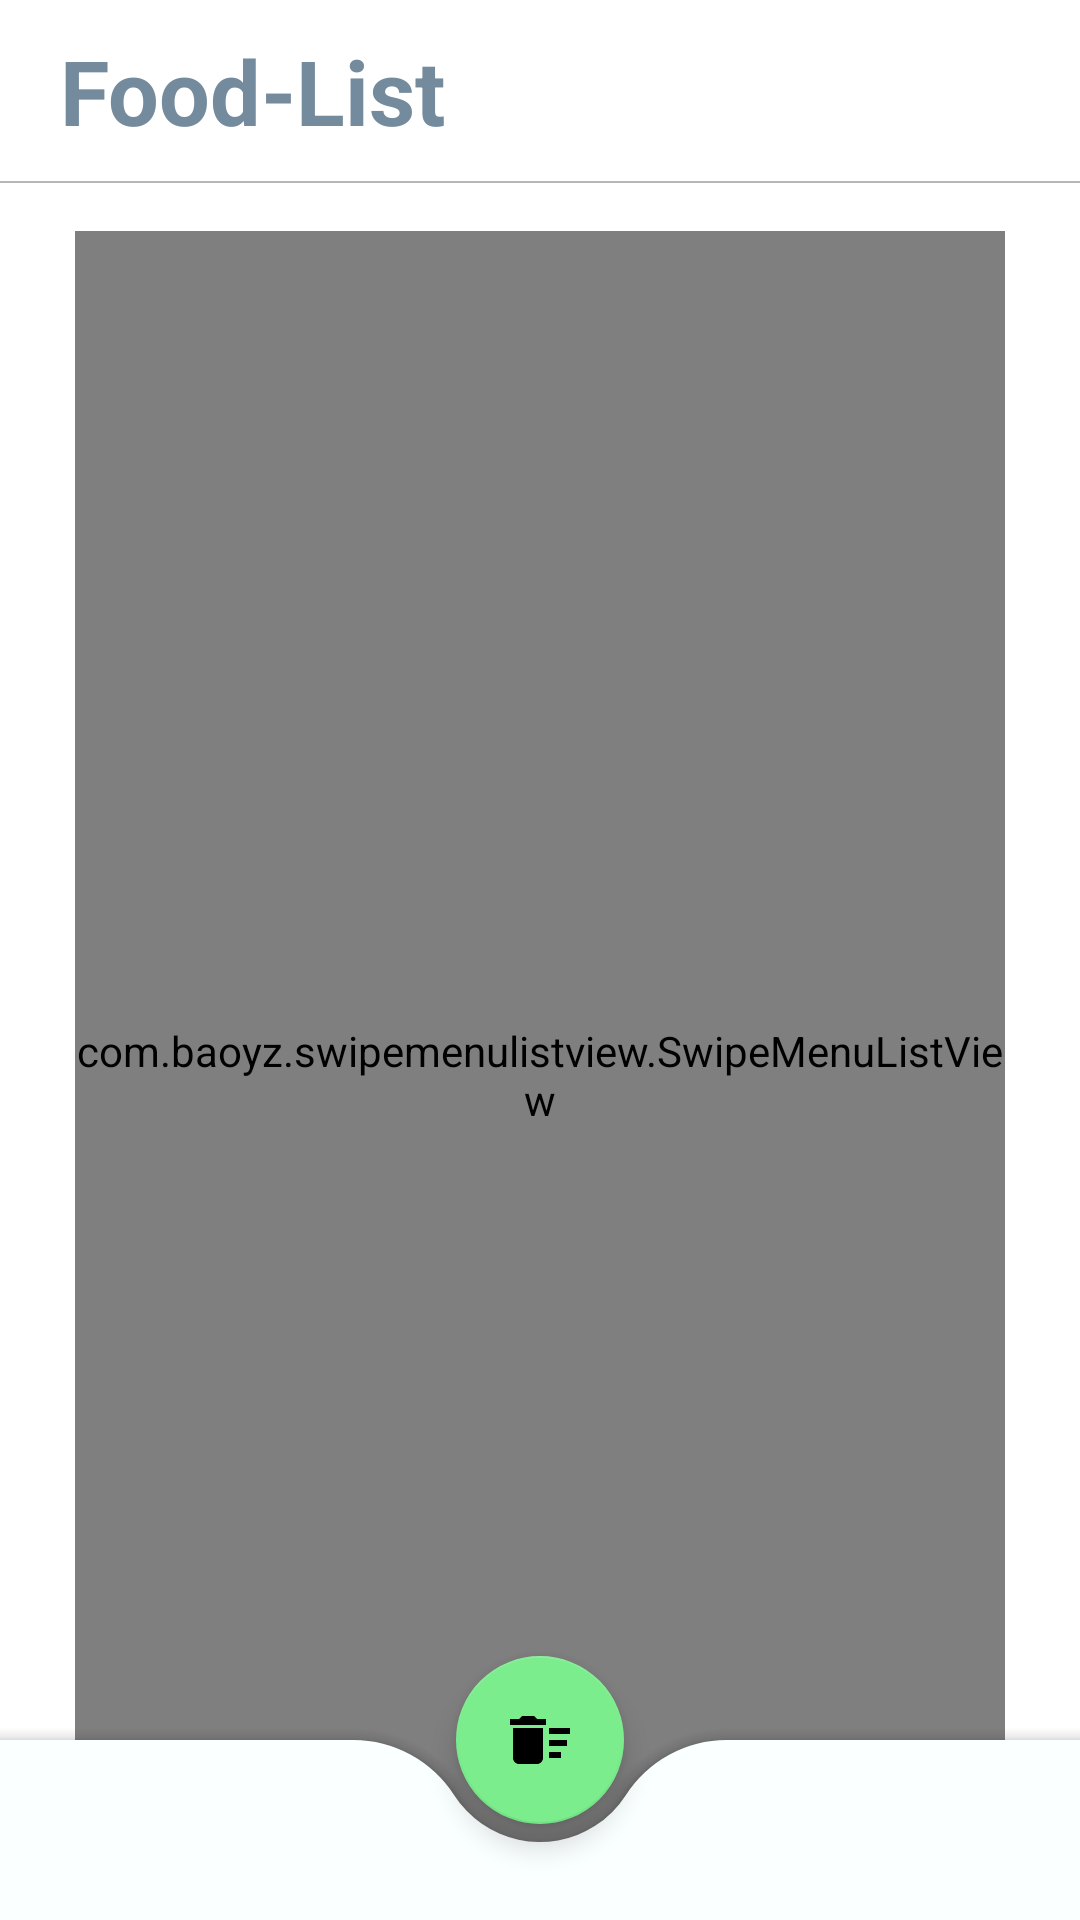

Icon bounding boxes for this 1080px x 1920px phone screenshot, format (x1, y1, x2, y2):
delete sweep: (456, 1656, 624, 1824)
